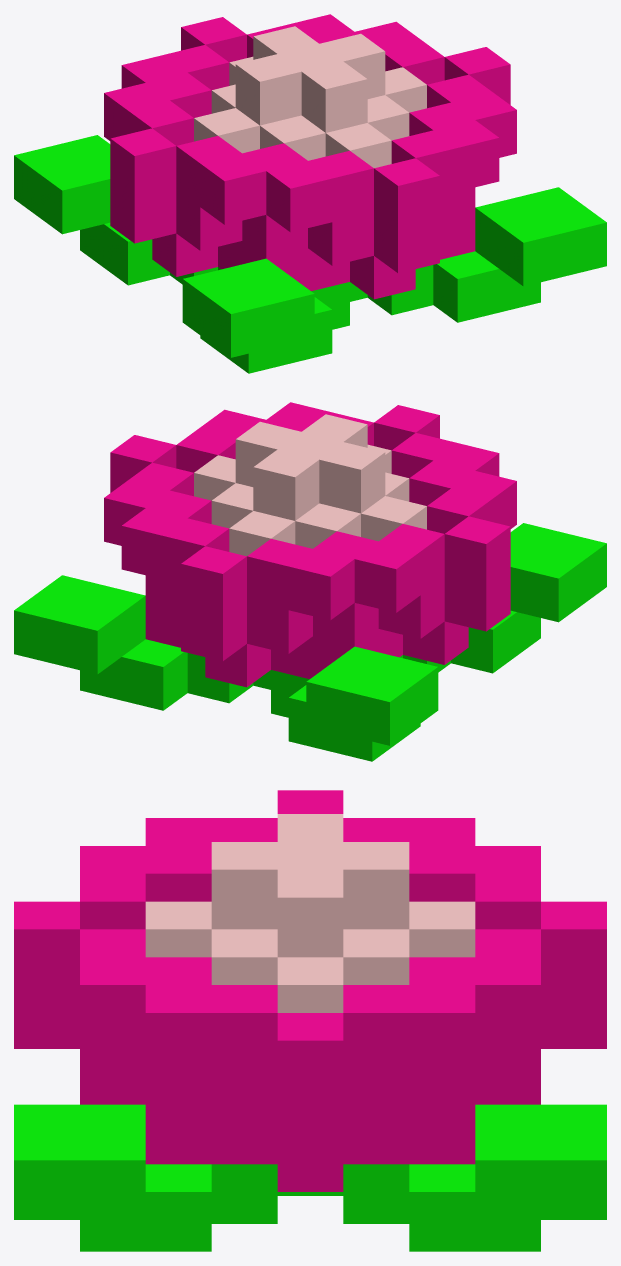
The model's file is PinkFlower.obj.
3 renders of one model, top to bottom at view 1: azimuth 30°, elevation 25°; view 2: azimuth 150°, elevation 25°; view 3: azimuth 270°, elevation 25°, orthographic. The views are drawn at different scales.
Bounding box in the file's own units: 0.9 × 0.5 × 0.9.
1 material, 1 textured.
